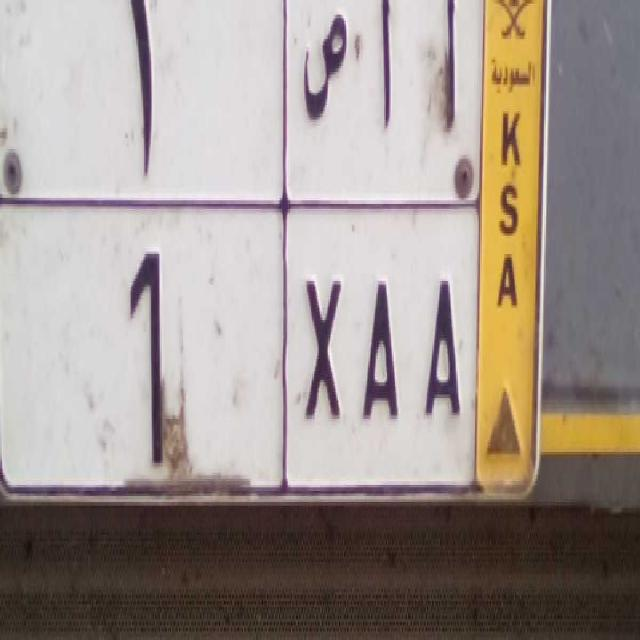license_plate: (0, 193, 478, 499)
